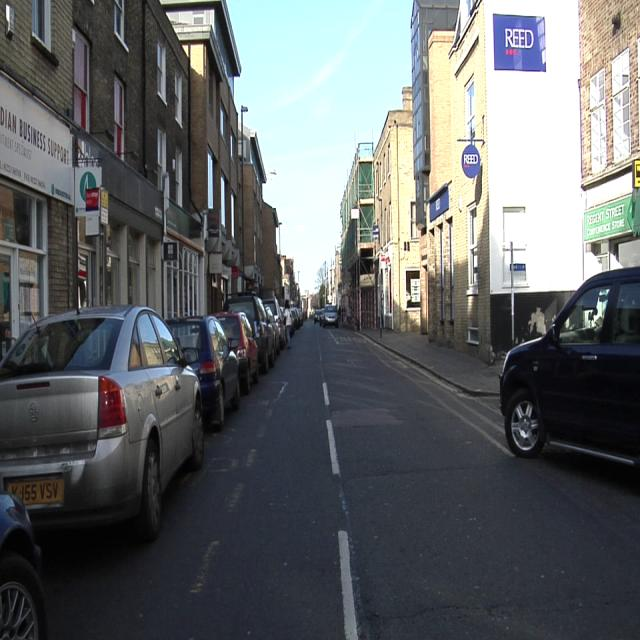Building: (4, 4, 298, 344), (408, 1, 578, 347), (411, 1, 490, 353), (338, 87, 421, 328), (581, 3, 639, 275)
Car: (0, 308, 203, 539), (500, 268, 639, 464), (168, 316, 241, 429), (1, 491, 46, 638), (221, 307, 258, 391), (265, 297, 287, 351), (320, 305, 338, 327)
Road: (37, 324, 636, 635)
